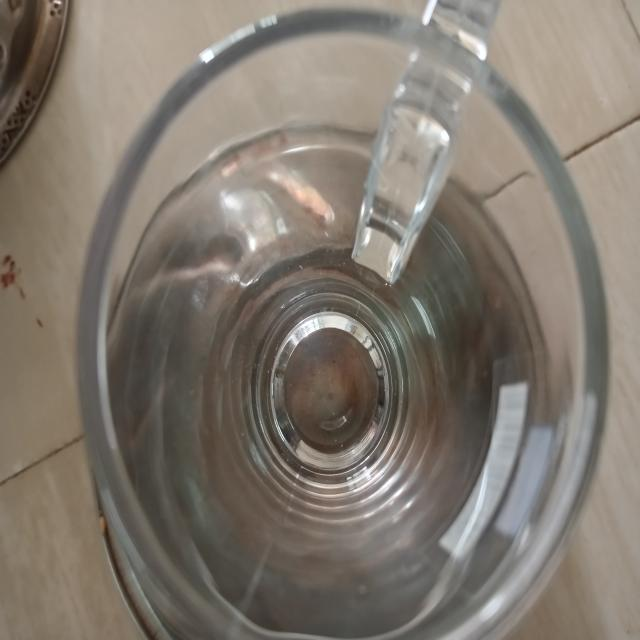glass-VX4N: (72, 0, 610, 640)
